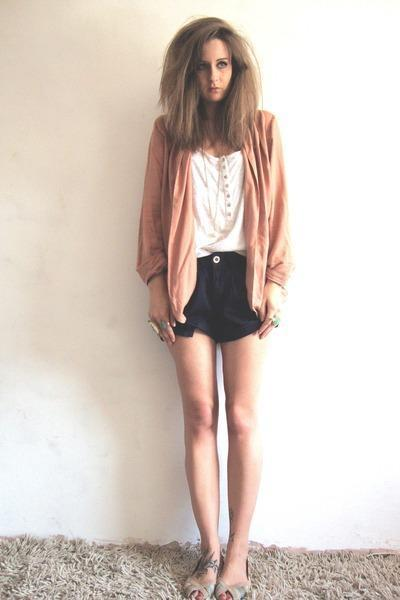jacket: (137, 109, 288, 322)
shirt: (190, 151, 245, 260)
shoe: (191, 540, 250, 599)
shorts: (172, 250, 267, 347)
